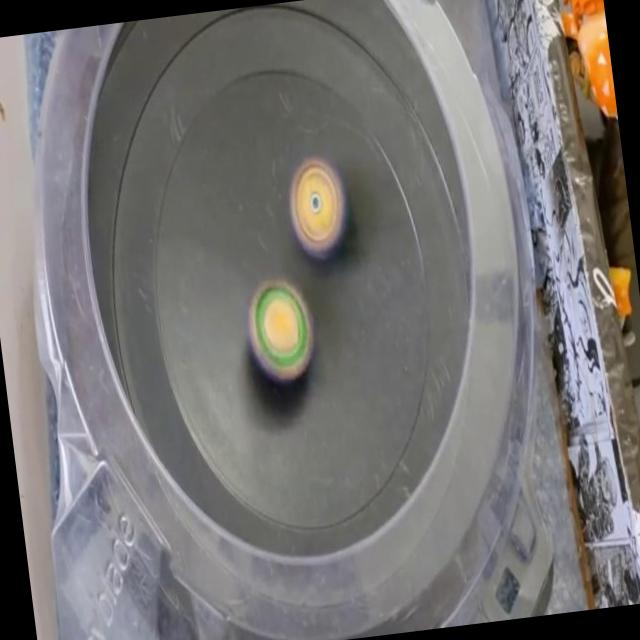Beyblade: (242, 275, 320, 386), (282, 150, 354, 263)
